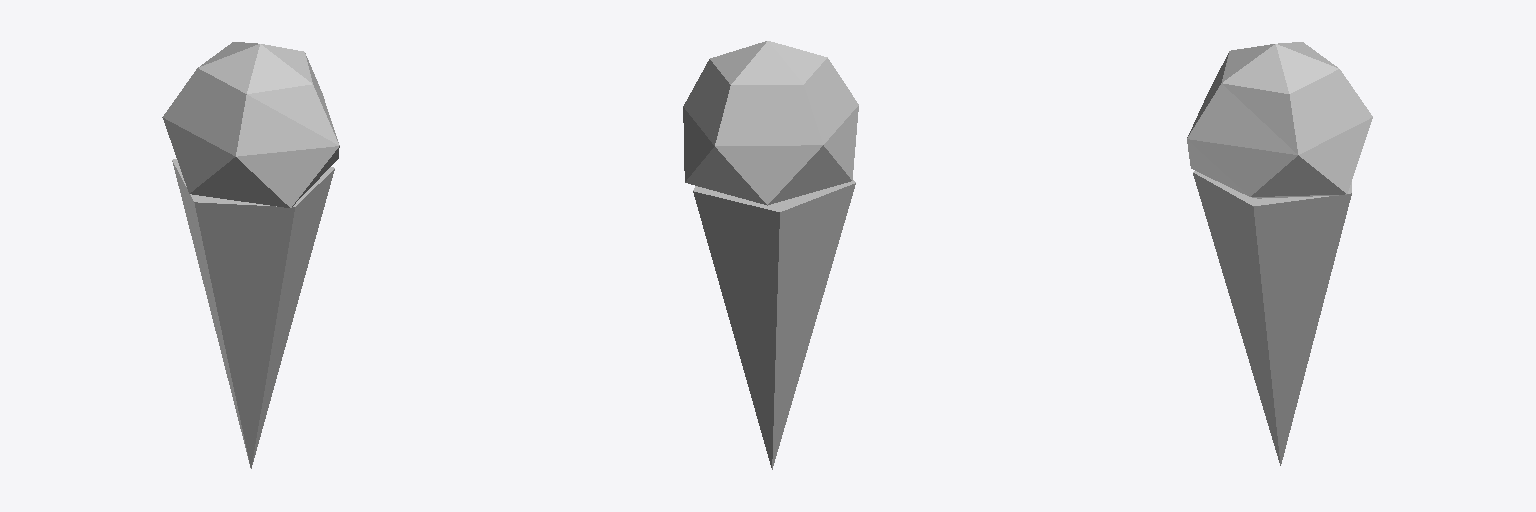
Rendered from IceCream_Cone.OBJ.
3 views of the same model, side by side, from view 1: azimuth 30°, elevation 25°; view 2: azimuth 150°, elevation 25°; view 3: azimuth 270°, elevation 25° (orthographic).
Size of the model in its own units: 0.0707 by 0.1906 by 0.0755.